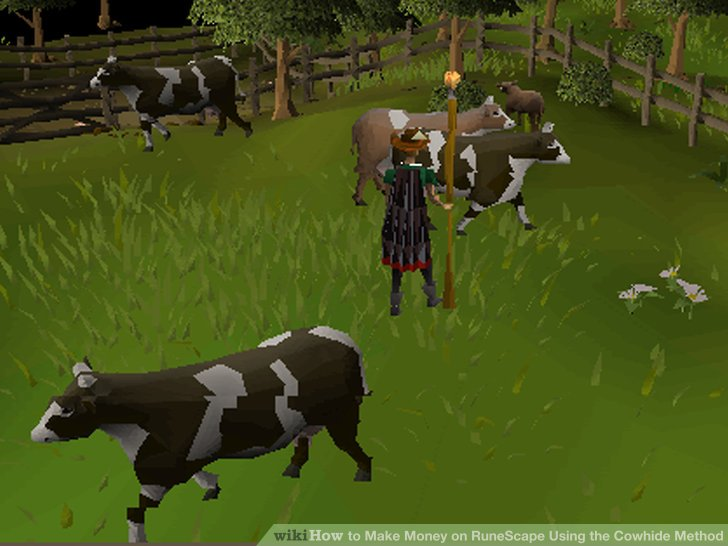rs_cow: (33, 323, 377, 523), (399, 121, 563, 228), (348, 105, 504, 201), (85, 51, 250, 137), (498, 83, 545, 126)
rs_player: (382, 130, 450, 313)
